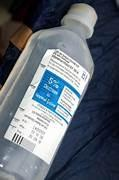Iv_Bottle: (0, 3, 96, 179)
